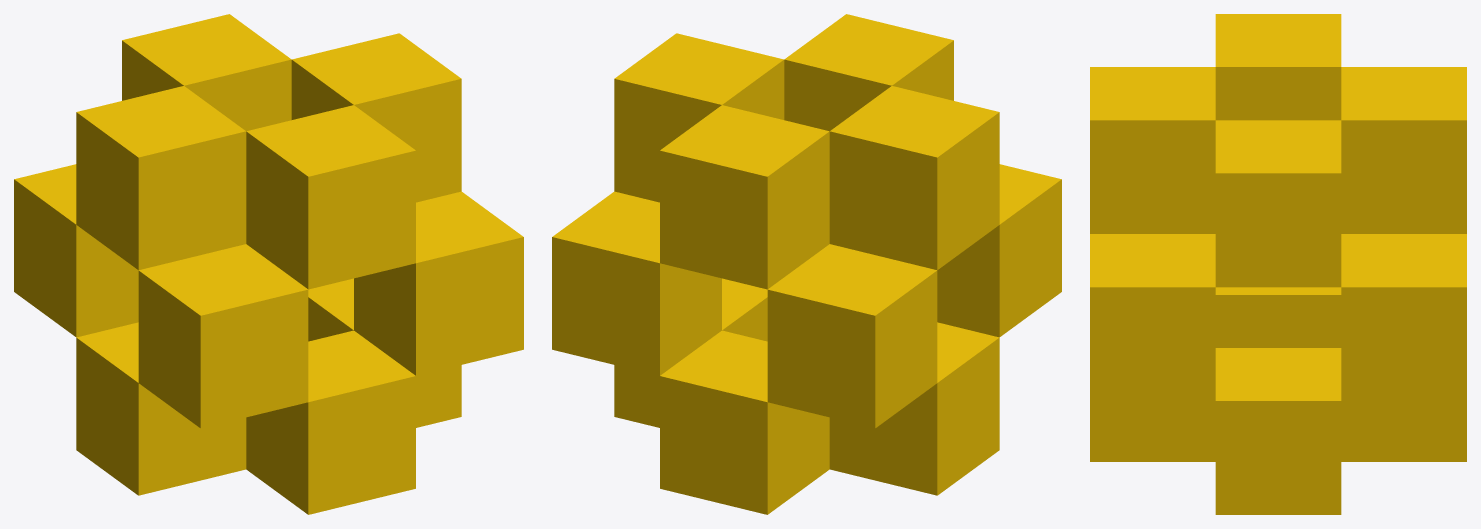
File: sun.obj
The picture shows the model from 3 angles, left to right: view 1: azimuth 30°, elevation 25°; view 2: azimuth 150°, elevation 25°; view 3: azimuth 270°, elevation 25°; orthographic projection.
Size of the model in its own units: 3 by 3 by 3.
